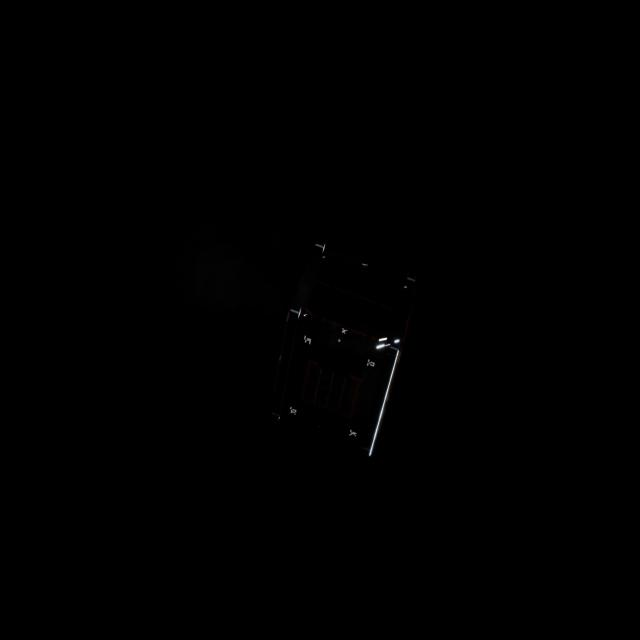satellite: (251, 227, 430, 470)
